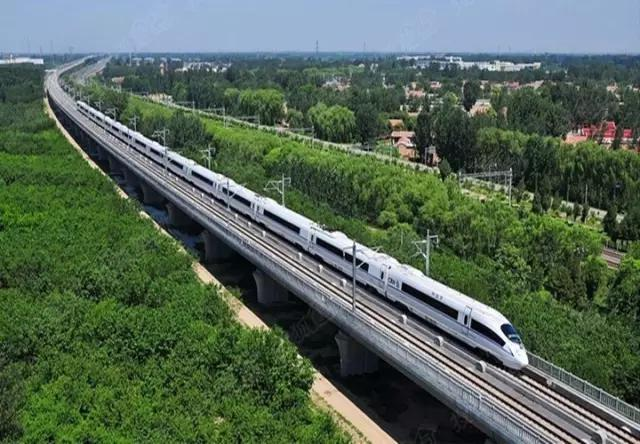hsrw: (73, 98, 530, 375)
